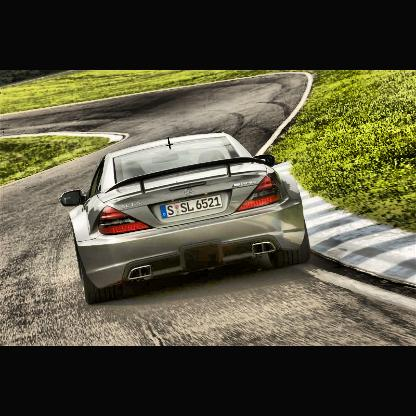Mercedes-Benz SL-Class Coupe 2009: (60, 132, 312, 304)
